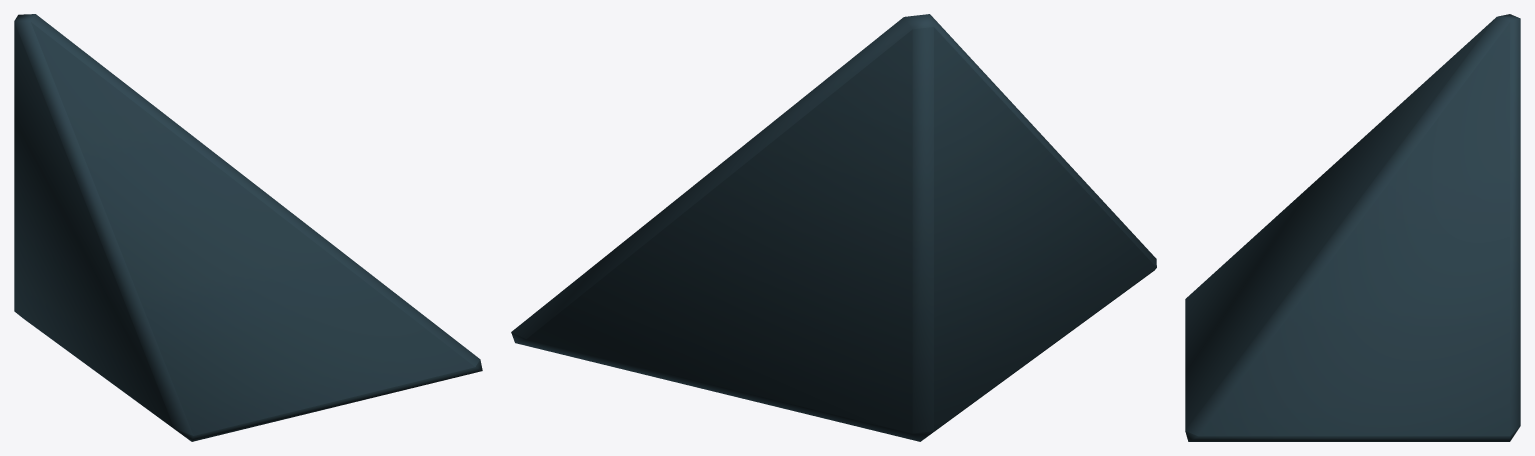
The model's file is ramp_convex_hue_5.fbx.
The picture shows the model from 3 angles, left to right: view 1: azimuth 30°, elevation 25°; view 2: azimuth 150°, elevation 25°; view 3: azimuth 270°, elevation 25°; orthographic projection. The views are drawn at different scales.
Parts seen in each view (by area): view 1: ramp_convex_hue_5; view 2: ramp_convex_hue_5; view 3: ramp_convex_hue_5.
Boxes of the visible parts, box(x1,y1,x2,y2) form: ramp_convex_hue_5: box(14, 14, 482, 441); ramp_convex_hue_5: box(511, 14, 1156, 441); ramp_convex_hue_5: box(1185, 14, 1520, 441).
Bounding box in the file's own units: 97.79 × 93.05 × 97.79.
